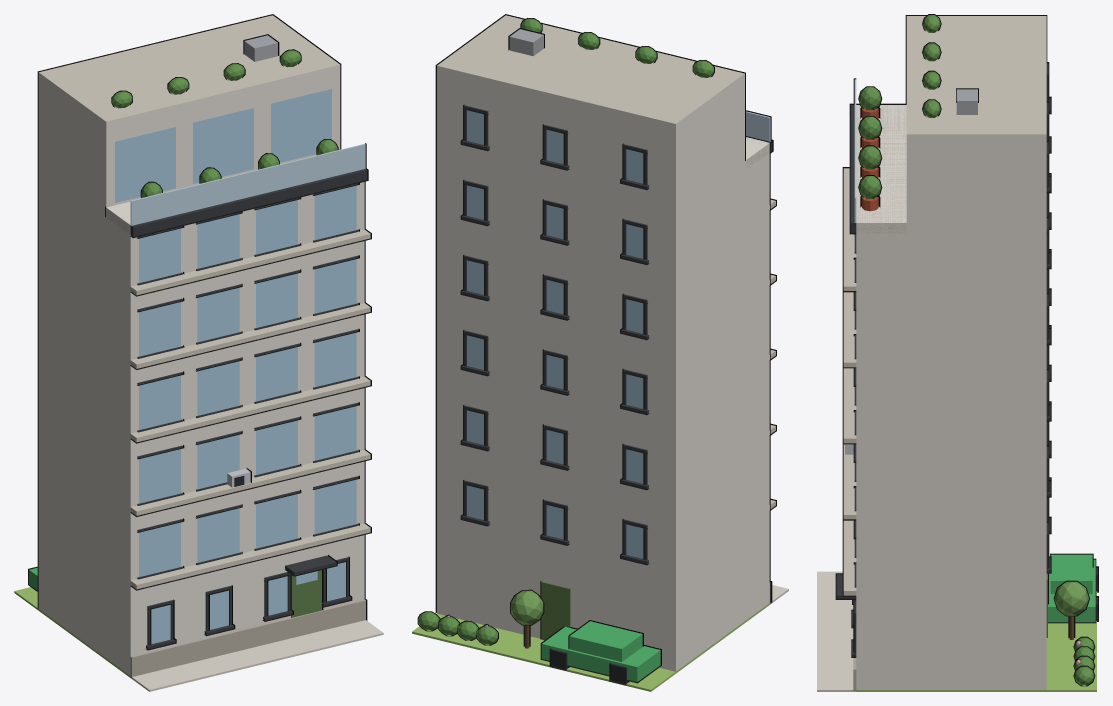
The model's file is Blok_duz_7k_5.fbx.
3 renders of one model, left to right at view 1: azimuth 30°, elevation 25°; view 2: azimuth 150°, elevation 25°; view 3: azimuth 270°, elevation 25°, orthographic. The views are drawn at different scales.
Visible parts, largest first — view 1: Blok_duz_7k_5; view 2: Blok_duz_7k_5; view 3: Blok_duz_7k_5.
Boxes of the visible parts, x1,y1,x2,y2 form: Blok_duz_7k_5: [14, 14, 383, 691]; Blok_duz_7k_5: [412, 14, 788, 691]; Blok_duz_7k_5: [817, 14, 1098, 691].
Bounding box in the file's own units: 10.06 × 22.58 × 10.07.
